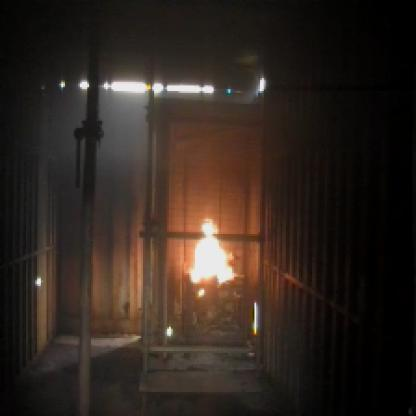Fire: (186, 217, 230, 292)
